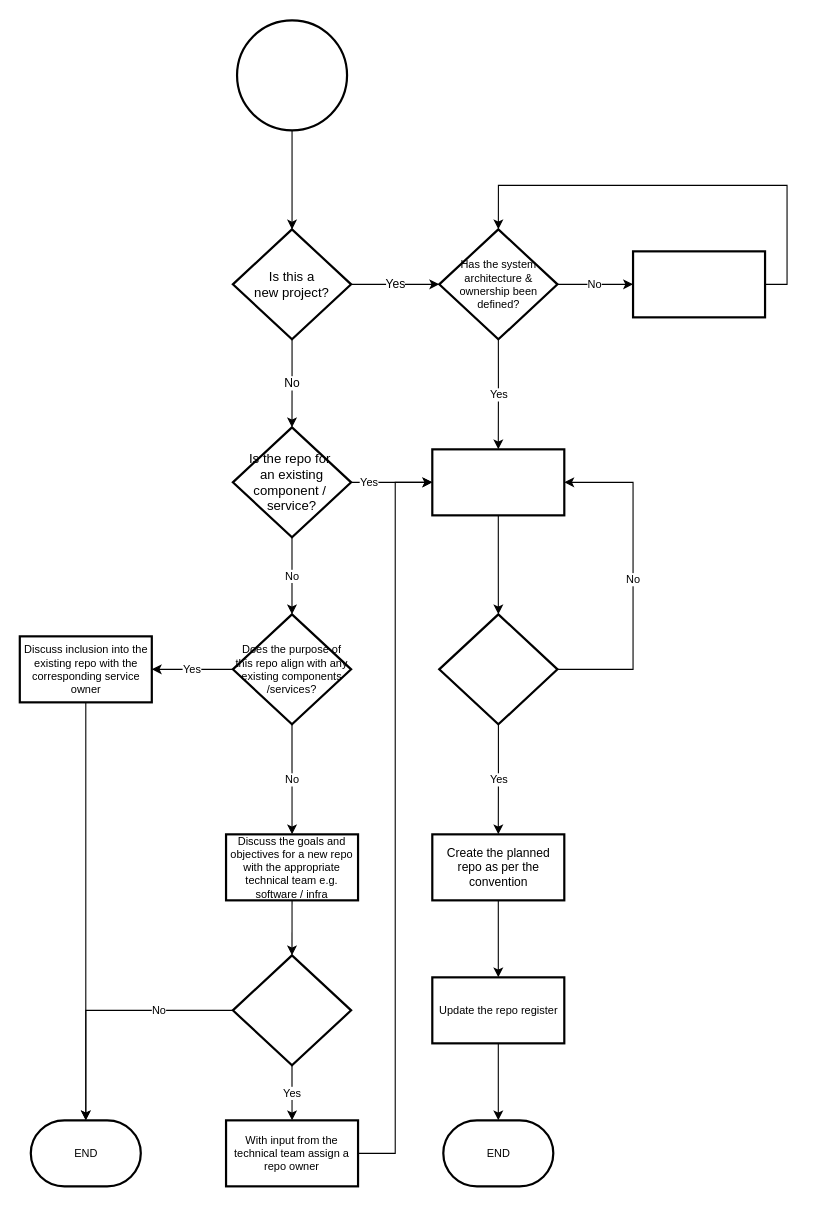
Image size: 815x1206. Some labels were removed from this diagram. Here are the shapes that lost their labels. From the top down, the centre of each, then its label:
At point 291,75: "START".
At point 698,284: "Plan and define the architecture & system ownership with the team".
At point 498,482: "Plan and define the repo structure".
At point 498,669: "Is the repo plan approved by the service / component owner?".
At point 291,1010: "Is a new repo required?".
